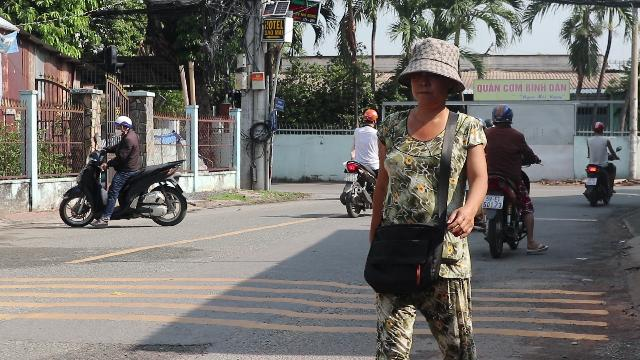helmet: (490, 104, 514, 126), (114, 115, 132, 137), (360, 108, 378, 126)
licenseplate: (482, 194, 503, 210), (343, 173, 357, 181)
motorcyclist: (58, 114, 192, 228), (477, 103, 541, 257), (339, 108, 381, 216)
